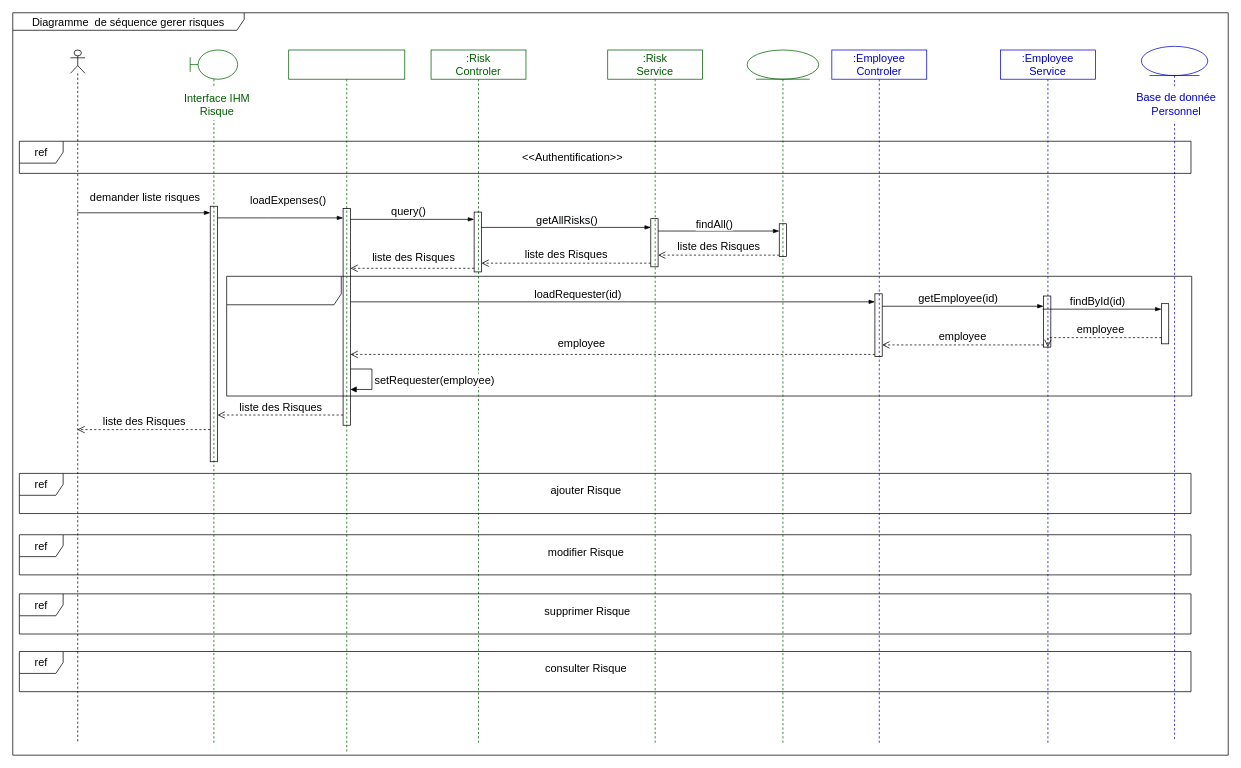
The diagram is 1241 pixels wide and 768 high, and some of its shapes have lost their labels. The box of each missing label's shape, as (x1, y1, x2, y2) in pixels:
<<component>> Risque: (288, 49, 405, 752)
Administrateur: (70, 49, 85, 744)
Base de donnée Risk_Change: (746, 49, 819, 744)
Loop: pour chaque risque: (226, 276, 1192, 396)
